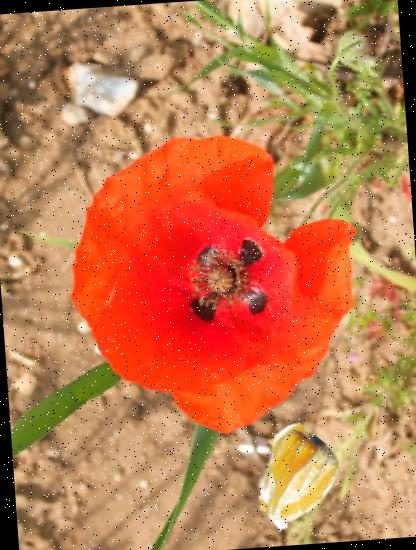Physalis: (237, 426, 343, 532)
